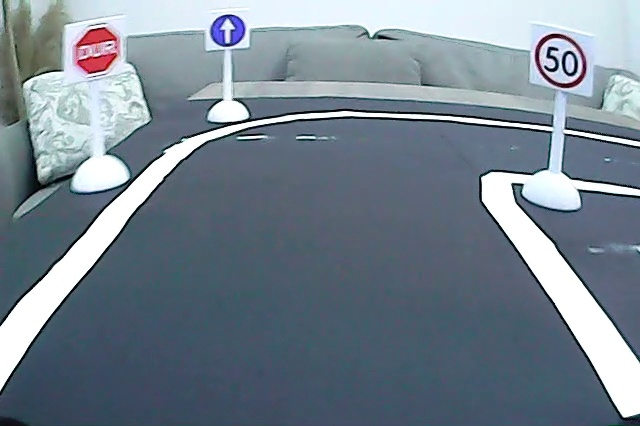speed limit 50: (532, 30, 589, 91)
stop sign: (71, 20, 123, 80)
